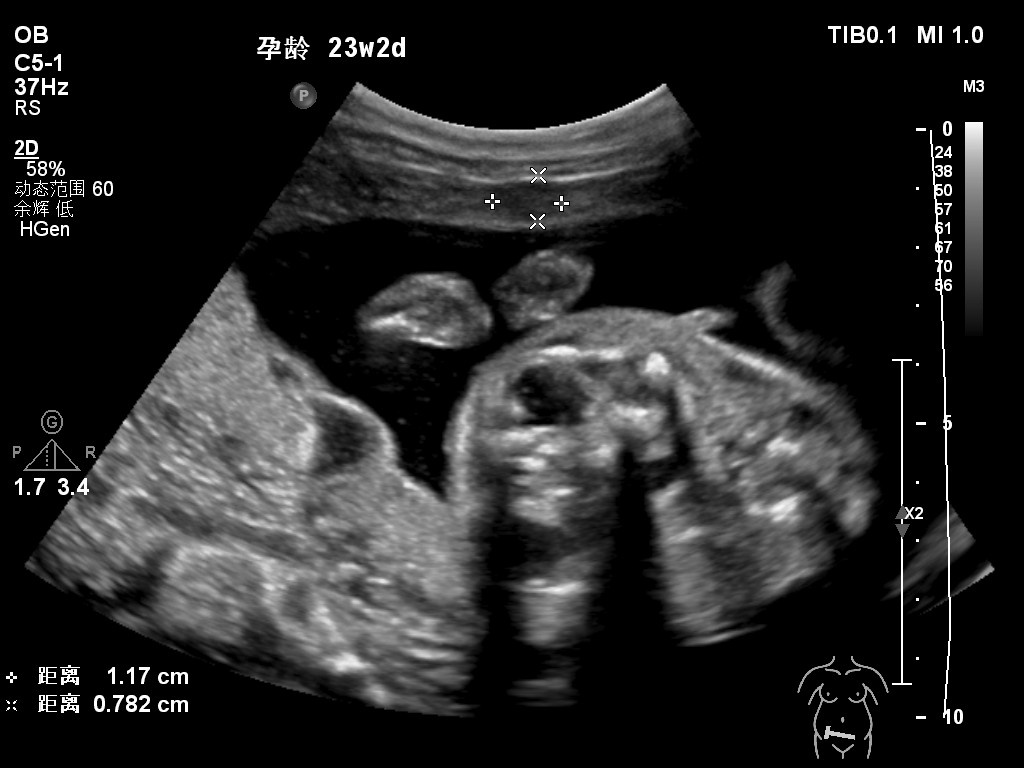肌瘤: (493, 179, 563, 220)
